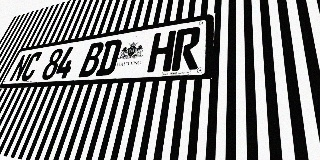4: (53, 45, 79, 79)
8: (40, 48, 66, 80)
B: (78, 41, 106, 77)
C: (19, 51, 44, 81)
D: (95, 38, 123, 76)
H: (147, 30, 176, 73)
N: (8, 53, 32, 82)
R: (171, 26, 201, 71)
